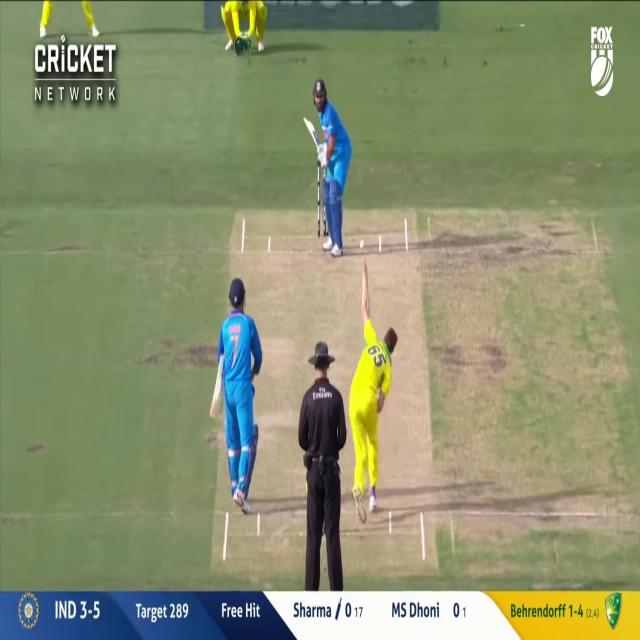ball: (358, 237, 368, 251)
stump: (317, 155, 323, 229), (323, 190, 326, 228)
